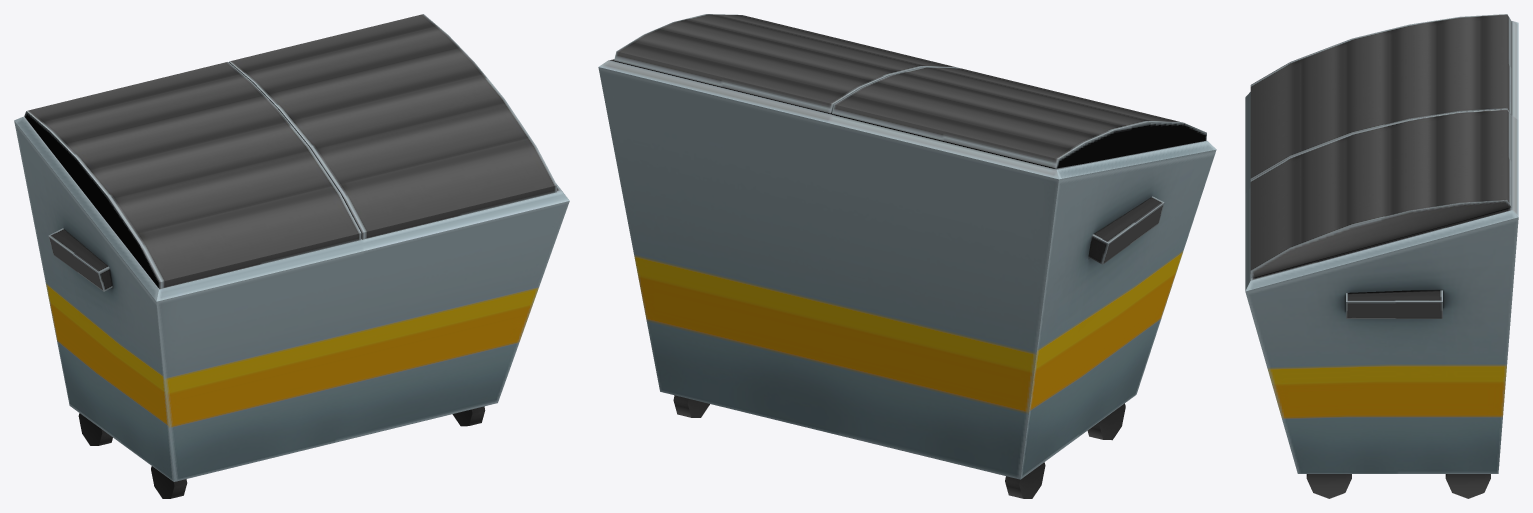
File: Trash.fbx
The picture shows the model from 3 angles, left to right: view 1: azimuth 30°, elevation 25°; view 2: azimuth 150°, elevation 25°; view 3: azimuth 270°, elevation 25°; orthographic projection. The views are drawn at different scales.
Visible parts, largest first — view 1: polySurface11; view 2: polySurface11; view 3: polySurface11.
Boxes of the visible parts, x1,y1,x2,y2 form: polySurface11: [14, 14, 569, 498]; polySurface11: [598, 14, 1216, 498]; polySurface11: [1245, 14, 1518, 498].
Bounding box in the file's own units: 90.83 × 67.67 × 52.65.
